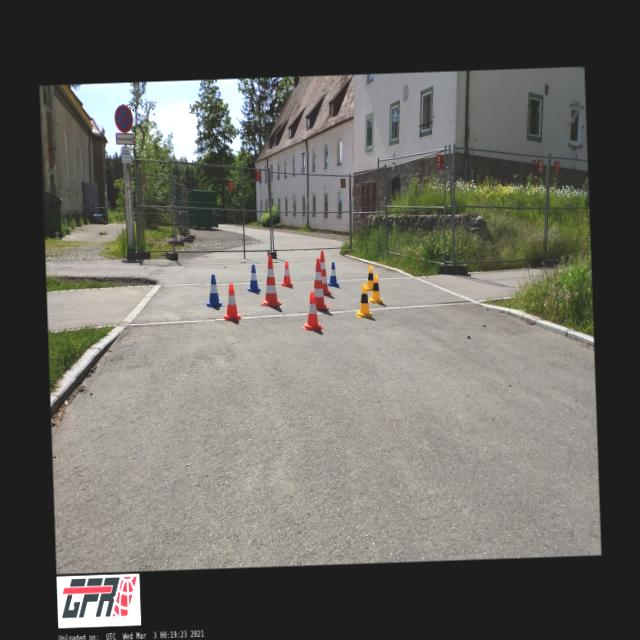blue_cone: (204, 274, 224, 308), (246, 264, 260, 292), (327, 261, 338, 287)
large_orange_cone: (258, 254, 281, 307), (312, 258, 328, 310), (319, 250, 332, 294)
orange_cone: (300, 292, 323, 332), (222, 283, 242, 320), (280, 261, 294, 286)
yellow_cone: (354, 282, 372, 318), (368, 274, 383, 304), (365, 265, 373, 291)
